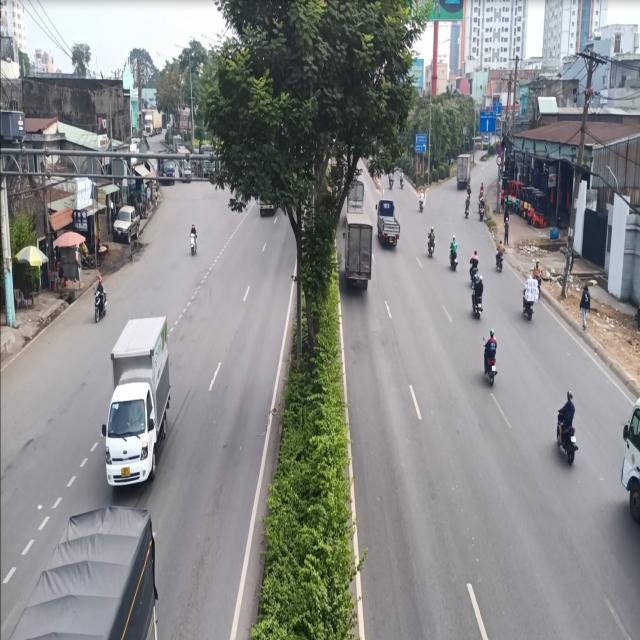motor: (554, 380, 584, 476), (482, 320, 502, 393), (92, 272, 115, 323), (187, 218, 201, 263), (448, 225, 461, 271), (424, 218, 436, 264)
truck: (106, 311, 177, 502)
